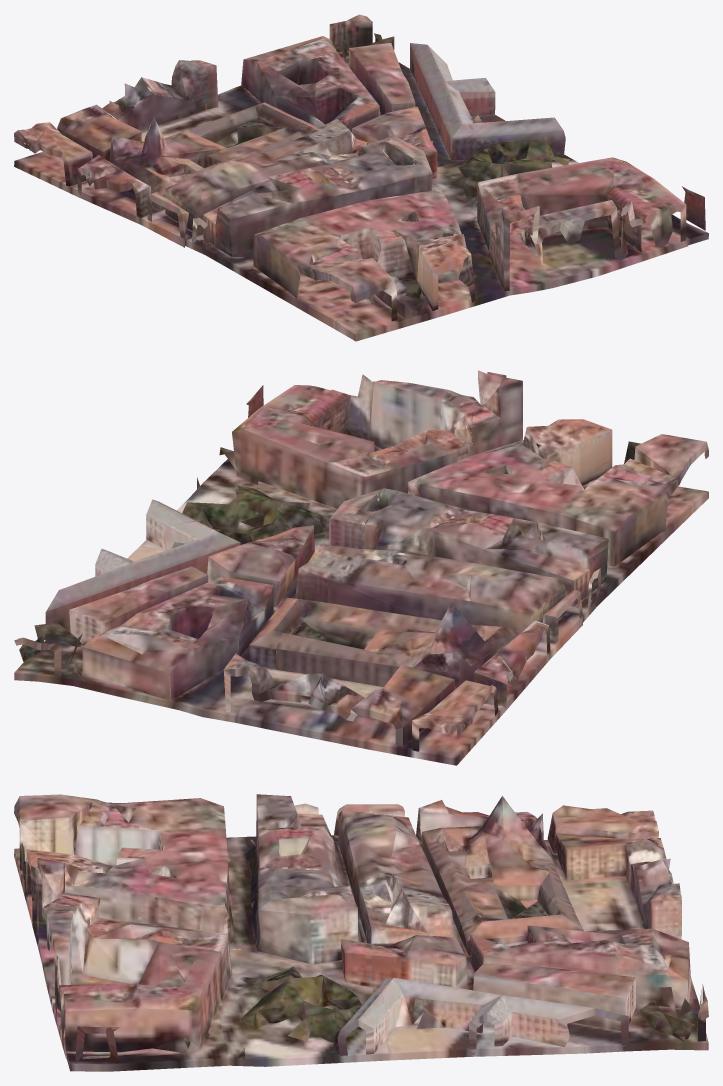
3 views of the same model, one above another, from view 1: azimuth 30°, elevation 25°; view 2: azimuth 150°, elevation 25°; view 3: azimuth 270°, elevation 25° (orthographic). The views are drawn at different scales.
Parts seen in each view (by area): view 1: Mesh_0; view 2: Mesh_0; view 3: Mesh_0.
Boxes of the visible parts, x1,y1,x2,y2 form: Mesh_0: [14, 14, 708, 341]; Mesh_0: [14, 370, 708, 765]; Mesh_0: [14, 794, 708, 1071].
Bounding box in the file's own units: 266 × 57.88 × 330.
2 materials, 2 textured.
